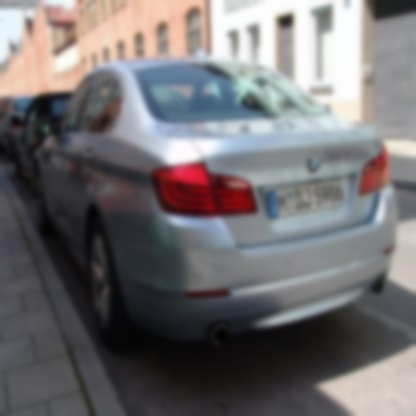Vehicle: (36, 59, 394, 357)
